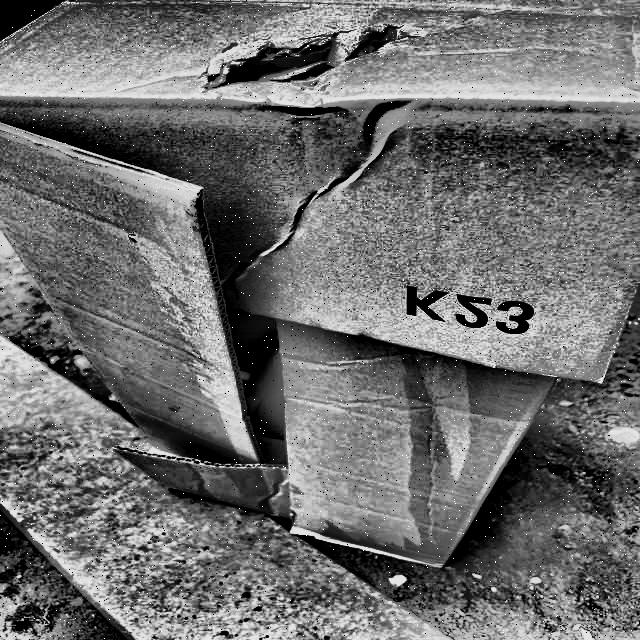box: (1, 0, 640, 585)
hole: (193, 17, 403, 99)
wet: (306, 379, 544, 568)
